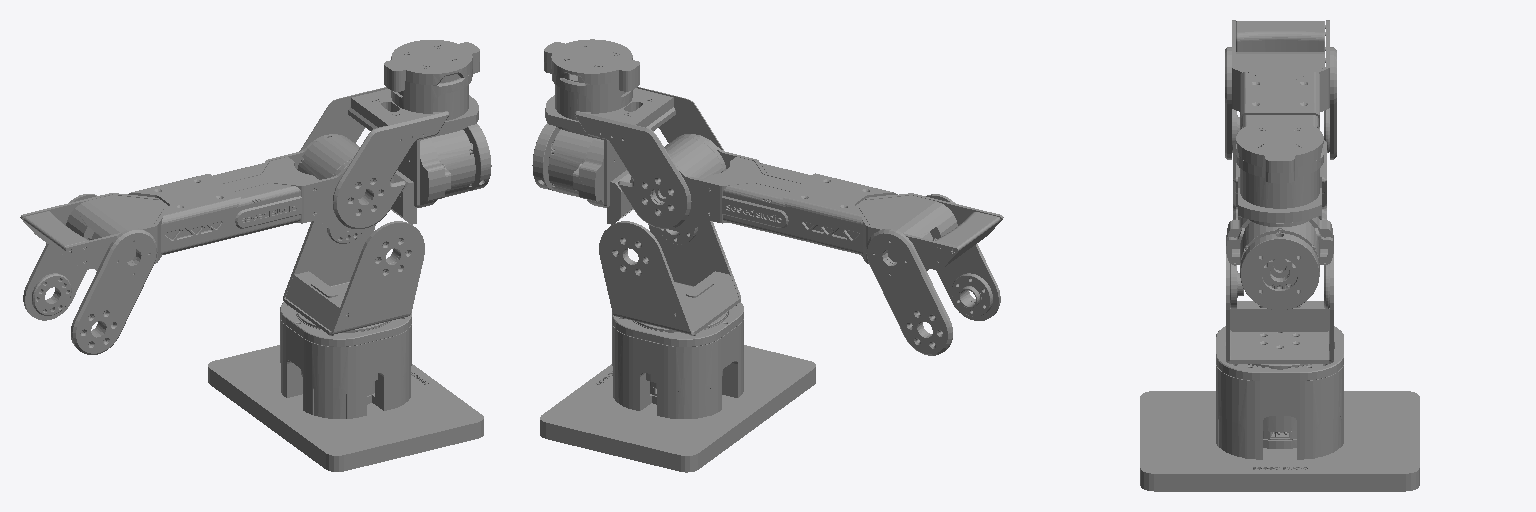
URDF robot description (reBot-DevArm_fixend):
<?xml version="1.0" encoding="utf-8"?>
<!-- This URDF was automatically created by SolidWorks to URDF Exporter! Originally created by Stephen Brawner (brawner@gmail.com) 
     Commit Version: 1.6.0-4-g7f85cfe  Build Version: 1.6.7995.38578
     For more information, please see http://wiki.ros.org/sw_urdf_exporter -->
<robot
  name="reBot-DevArm_fixend">
  <link
    name="base_link">
    <inertial>
      <origin
        xyz="-7.849E-06 -1.1531E-06 0.029841"
        rpy="0 0 0" />
      <mass
        value="0.83660000" />
      <inertia
        ixx="0.00133040"
        ixy="0.00000001"
        ixz="0.00000000"
        iyy="0.00213119"
        iyz="0.00000000"
        izz="0.00275877" />
    </inertial>
    <visual>
      <origin
        xyz="0 0 0"
        rpy="0 0 0" />
      <geometry>
        <mesh
          filename="meshes/base_link.STL" />
      </geometry>
      <material
        name="">
        <color
          rgba="0.62745 0.62745 0.62745 1" />
      </material>
    </visual>
    <collision>
      <origin
        xyz="0 0 0"
        rpy="0 0 0" />
      <geometry>
        <mesh
          filename="meshes/base_link.STL" />
      </geometry>
    </collision>
  </link>
  <link
    name="link1">
    <inertial>
      <origin
        xyz="0.000113614552951627 -0.000616319527051323 0.0236476372671394"
        rpy="0 0 0" />
      <mass
        value="0.16130000" />
      <inertia
        ixx="0.00025207"
        ixy="0.00000000"
        ixz="-0.00002832"
        iyy="0.00015464"
        iyz="0.00000000"
        izz="0.00023416" />
    </inertial>
    <visual>
      <origin
        xyz="0 0 0"
        rpy="0 0 0" />
      <geometry>
        <mesh
          filename="meshes/link1.STL" />
      </geometry>
      <material
        name="">
        <color
          rgba="0.627450980392157 0.627450980392157 0.627450980392157 1" />
      </material>
    </visual>
    <collision>
      <origin
        xyz="0 0 0"
        rpy="0 0 0" />
      <geometry>
        <mesh
          filename="meshes/link1.STL" />
      </geometry>
    </collision>
  </link>
  <joint
    name="joint1"
    type="revolute">
    <origin
      xyz="-8.416E-05 0 0.08465"
      rpy="0 0 0" />
    <parent
      link="base_link" />
    <child
      link="link1" />
    <axis
      xyz="0 0 1" />
    <limit
      lower="-2.8"
      upper="2.8"
      effort="27"
      velocity="50" />
  </joint>
  <link
    name="link2">
    <inertial>
      <origin
        xyz="-0.13225622308888 -0.0030617036386309 -0.0308306967030205"
        rpy="0 0 0" />
      <mass
        value="1.32660000" />
      <inertia
        ixx="0.00073374"
        ixy="-0.00000043"
        ixz="0.00000851"
        iyy="0.01255987"
        iyz="0.00000128"
        izz="0.01281387" />
    </inertial>
    <visual>
      <origin
        xyz="0 0 0"
        rpy="0 0 0" />
      <geometry>
        <mesh
          filename="meshes/link2.STL" />
      </geometry>
      <material
        name="">
        <color
          rgba="0.627450980392157 0.627450980392157 0.627450980392157 1" />
      </material>
    </visual>
    <collision>
      <origin
        xyz="0 0 0"
        rpy="0 0 0" />
      <geometry>
        <mesh
          filename="meshes/link2.STL" />
      </geometry>
    </collision>
  </link>
  <joint
    name="joint2"
    type="revolute">
    <origin
      xyz="0.020084 0.031625 0.05555"
      rpy="-1.5708 0 0" />
    <parent
      link="link1" />
    <child
      link="link2" />
    <axis
      xyz="0 0 -1" />
    <limit
      lower="-3.14"
      upper="0"
      effort="27"
      velocity="50" />
  </joint>
  <link
    name="link3">
    <inertial>
      <origin
        xyz="0.121040035791843 -0.0536211076627949 -0.0310137854608077"
        rpy="0 0 0" />
      <mass
        value="0.83530000" />
      <inertia
        ixx="0.00046807"
        ixy="-0.00003456"
        ixz="-0.00004260"
        iyy="0.00632695"
        iyz="0.00000006"
        izz="0.00648221" />
    </inertial>
    <visual>
      <origin
        xyz="0 0 0"
        rpy="0 0 0" />
      <geometry>
        <mesh
          filename="meshes/link3.STL" />
      </geometry>
      <material
        name="">
        <color
          rgba="0.627450980392157 0.627450980392157 0.627450980392157 1" />
      </material>
    </visual>
    <collision>
      <origin
        xyz="0 0 0"
        rpy="0 0 0" />
      <geometry>
        <mesh
          filename="meshes/link3.STL" />
      </geometry>
    </collision>
  </link>
  <joint
    name="joint3"
    type="revolute">
    <origin
      xyz="-0.264 0 0"
      rpy="0 0 0" />
    <parent
      link="link2" />
    <child
      link="link3" />
    <axis
      xyz="0 0 1" />
    <limit
      lower="-3.14"
      upper="0"
      effort="27"
      velocity="50" />
  </joint>
  <link
    name="link4">
    <inertial>
      <origin
        xyz="0.0608200956293136 -0.0511711906613122 -0.030299458623927"
        rpy="0 0 0" />
      <mass
        value="0.52000000" />
      <inertia
        ixx="0.00045986"
        ixy="0.00024219"
        ixz="-0.00000672"
        iyy="0.00075258"
        iyz="-0.00000535"
        izz="0.00066742" />
    </inertial>
    <visual>
      <origin
        xyz="0 0 0"
        rpy="0 0 0" />
      <geometry>
        <mesh
          filename="meshes/link4.STL" />
      </geometry>
      <material
        name="">
        <color
          rgba="0.627450980392157 0.627450980392157 0.627450980392157 1" />
      </material>
    </visual>
    <collision>
      <origin
        xyz="0 0 0"
        rpy="0 0 0" />
      <geometry>
        <mesh
          filename="meshes/link4.STL" />
      </geometry>
    </collision>
  </link>
  <joint
    name="joint4"
    type="revolute">
    <origin
      xyz="0.2426 -0.054 -0.001625"
      rpy="0 0 0" />
    <parent
      link="link3" />
    <child
      link="link4" />
    <axis
      xyz="0 0 1" />
    <limit
      lower="-1.87"
      upper="1.57"
      effort="7"
      velocity="200" />
  </joint>
  <link
    name="link5">
    <inertial>
      <origin
        xyz="-0.00502802058982517 1.73866206692364E-06 0.0386233236326755"
        rpy="0 0 0" />
      <mass
        value="0.38300000" />
      <inertia
        ixx="0.00019772"
        ixy="-0.00000062"
        ixz="-0.00002426"
        iyy="0.00021737"
        iyz="0.00000002"
        izz="0.00017191" />
    </inertial>
    <visual>
      <origin
        xyz="0 0 0"
        rpy="0 0 0" />
      <geometry>
        <mesh
          filename="meshes/link5.STL" />
      </geometry>
      <material
        name="">
        <color
          rgba="0.627450980392157 0.627450980392157 0.627450980392157 1" />
      </material>
    </visual>
    <collision>
      <origin
        xyz="0 0 0"
        rpy="0 0 0" />
      <geometry>
        <mesh
          filename="meshes/link5.STL" />
      </geometry>
    </collision>
  </link>
  <joint
    name="joint5"
    type="revolute">
    <origin
      xyz="0.078308 -0.0375 -0.03"
      rpy="-1.5708 0 0" />
    <parent
      link="link4" />
    <child
      link="link5" />
    <axis
      xyz="0 0 1" />
    <limit
      lower="-1.57"
      upper="1.57"
      effort="7"
      velocity="200" />
  </joint>
  <link
    name="link6">
    <inertial>
      <origin
        xyz="3.76418727127126E-06 -0.000100908819946677 0.0253308606425965"
        rpy="0 0 0" />
      <mass
        value="0.36630000" />
      <inertia
        ixx="0.00015554"
        ixy="-0.00000"
        ixz="-0.00000"
        iyy="0.00015554"
        iyz="-0.0000"
        izz="0.00013966" />
    </inertial>
    <visual>
      <origin
        xyz="0 0 0"
        rpy="0 0 0" />
      <geometry>
        <mesh
          filename="meshes/link6.STL" />
      </geometry>
      <material
        name="">
        <color
          rgba="0.627450980392157 0.627450980392157 0.627450980392157 1" />
      </material>
    </visual>
    <collision>
      <origin
        xyz="0 0 0"
        rpy="0 0 0" />
      <geometry>
        <mesh
          filename="meshes/link6.STL" />
      </geometry>
    </collision>
  </link>
  <joint
    name="joint6"
    type="revolute">
    <origin
      xyz="0.028008 0 0.04"
      rpy="0 1.5708 0" />
    <parent
      link="link5" />
    <child
      link="link6" />
    <axis
      xyz="0 0 1" />
    <limit
      lower="-3.14"
      upper="3.14"
      effort="7"
      velocity="200" />
  </joint>
  <link
    name="end_link">
    <inertial>
      <origin
        xyz="-0.0737654295815033 -9.5080995865868E-06 7.04327840286845E-06"
        rpy="0 0 0" />
      <mass
        value="0.5500000" />
      <inertia
        ixx="0.00037354"
        ixy="-0.00000011"
        ixz="0.00000050"
        iyy="0.00015830"
        iyz="0.00000348"
        izz="0.00045353" />
    </inertial>
    <visual>
      <origin
        xyz="0 0 0"
        rpy="0 0 0" />
      <geometry>
        <mesh
          filename="meshes/end_link.STL" />
      </geometry>
      <material
        name="">
        <color
          rgba="0.627450980392157 0.627450980392157 0.627450980392157 1" />
      </material>
    </visual>
    <collision>
      <origin
        xyz="0 0 0"
        rpy="0 0 0" />
      <geometry>
        <mesh
          filename="meshes/end_link.STL" />
      </geometry>
    </collision>
  </link>
  <joint
    name="end_joint"
    type="fixed">
    <origin
      xyz="0 0 0.15539"
      rpy="0 -1.5708 3.1415" />
    <parent
      link="link6" />
    <child
      link="end_link" />
    <axis
      xyz="0 0 0" />
  </joint>
</robot>

--- What the picture shows (computed from the rendered views, not written in the file) ---
Views: 3 orthographic renders of the robot side by side, from view 1: azimuth 30°, elevation 25°; view 2: azimuth 150°, elevation 25°; view 3: azimuth 270°, elevation 25°.
Robot: reBot-DevArm_fixend — 8 links, 7 joints (6 revolute, 1 fixed); root link base_link; default pose: every joint at zero.
Visible links, largest first — view 1: link3, base_link, link4, link1, link5, link6; view 2: link3, base_link, link4, link1, link5, link6; view 3: base_link, link3, link4, link1, link6, link5.
Boxes of the visible links, x1,y1,x2,y2 form: link3: (20,134,393,354); base_link: (208,302,483,471); link4: (299,40,479,228); link1: (283,221,424,334); link5: (390,126,475,224); link6: (463,124,491,190); link3: (630,134,1003,355); base_link: (540,302,815,472); link4: (544,39,723,228); link1: (599,221,740,334); link5: (548,126,633,224); link6: (532,123,560,190); base_link: (1140,326,1419,491); link3: (1225,20,1336,217); link4: (1233,115,1326,222); link1: (1226,254,1333,367); link6: (1240,233,1319,309); link5: (1226,217,1333,286).
Bounding box of the posed robot: 0.3871 × 0.2 × 0.2822 m (x, y, z).
6 mesh visuals loaded from 8 distinct referenced files (6 binary STL); not drawn: 2 (reference not matched to a file when rendering).
